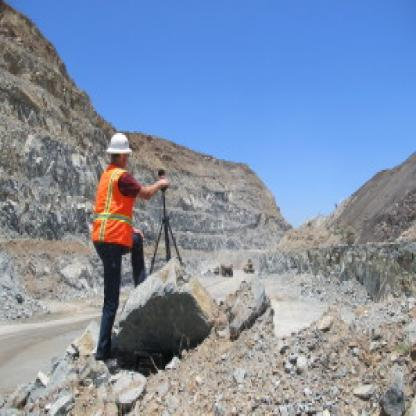person: (87, 124, 179, 366)
